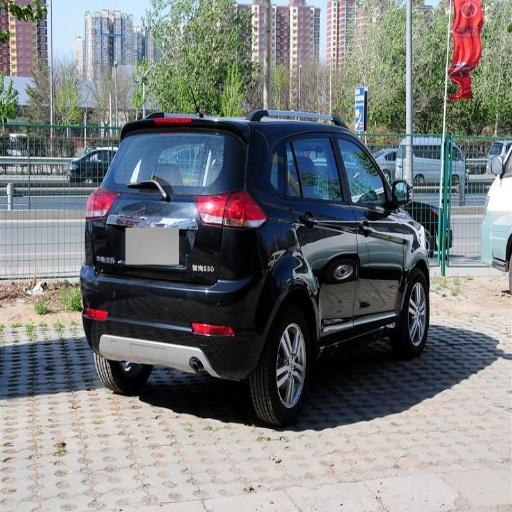back_bumper: (82, 228, 275, 376)
back_right_door: (288, 129, 358, 333)
trunk: (95, 191, 225, 286)
